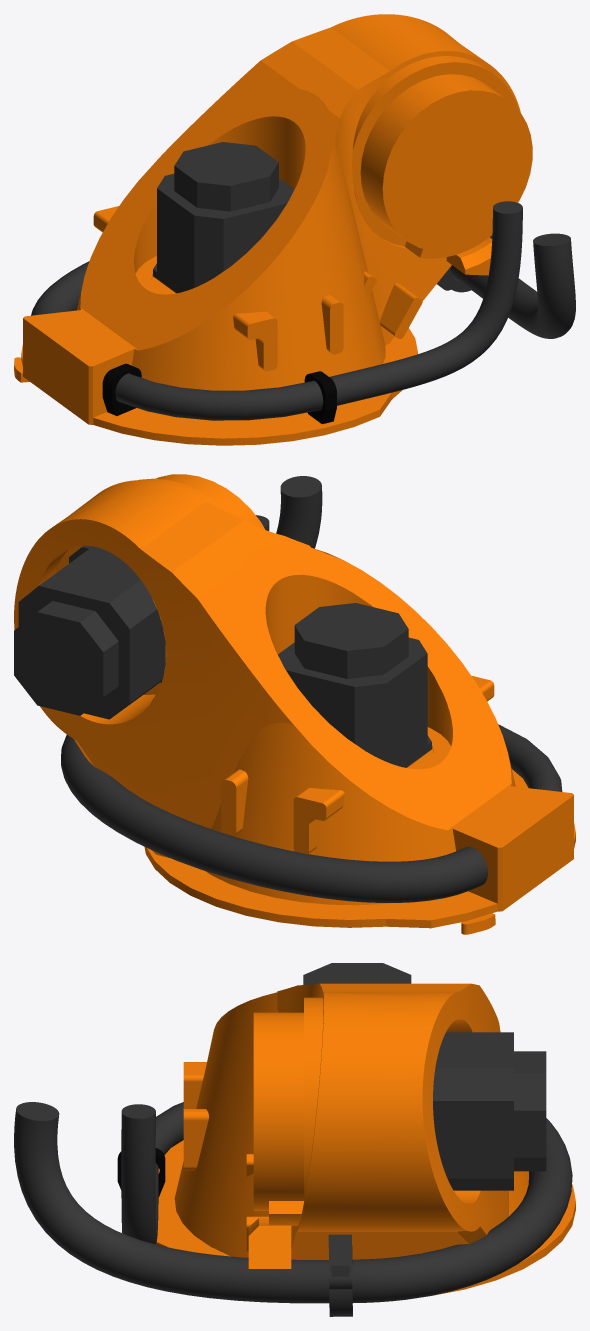
The model's file is kuka_kr_60_1.fbx.
The picture shows the model from 3 angles, top to bottom: view 1: azimuth 30°, elevation 25°; view 2: azimuth 150°, elevation 25°; view 3: azimuth 270°, elevation 25°; orthographic projection. The views are drawn at different scales.
Visible parts, largest first — view 1: 1; view 2: 1; view 3: 1.
Part boxes in pixels (bbox=[...]): 1: bbox=[14, 14, 575, 445]; 1: bbox=[14, 474, 575, 934]; 1: bbox=[14, 963, 575, 1316].
Bounding box in the file's own units: 0.8428 × 0.5058 × 0.8008.
